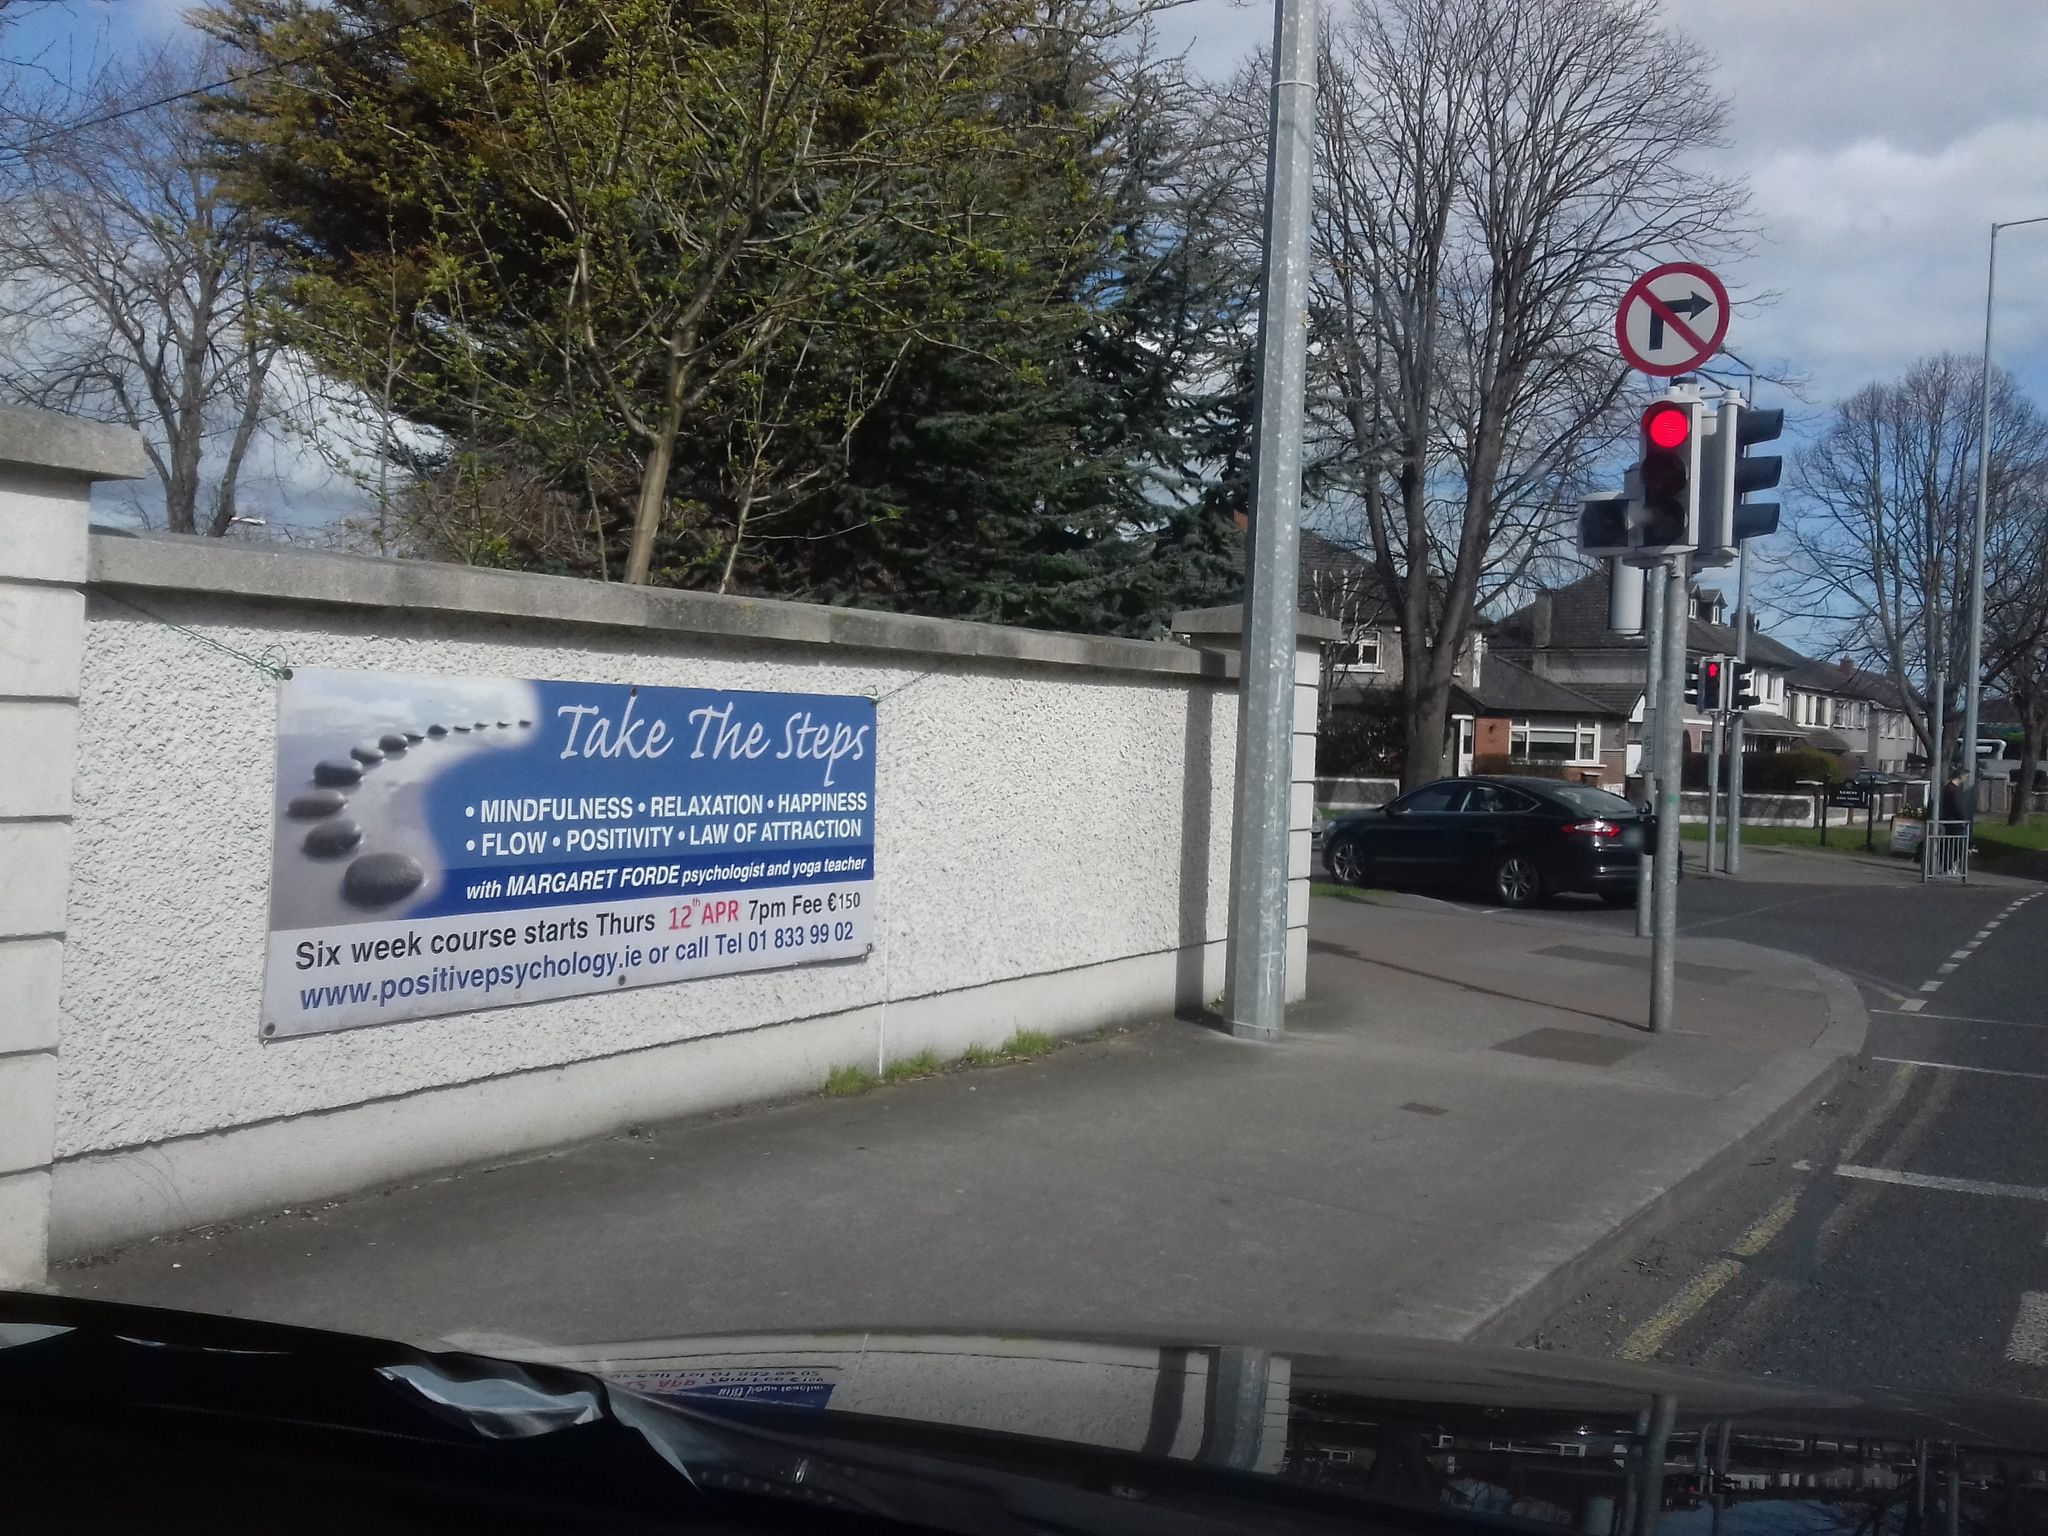vinyl banner: (256, 641, 927, 1050)
